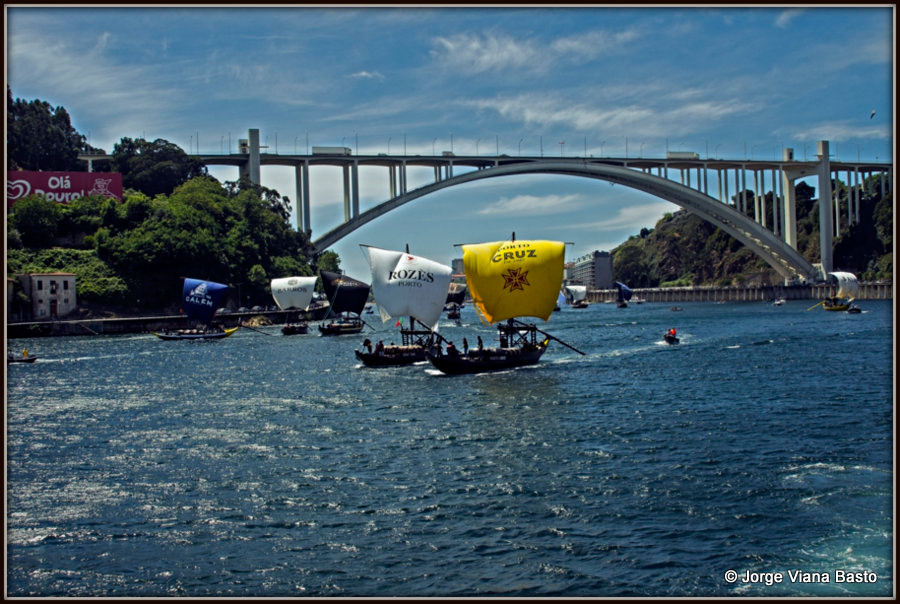arrabida: (180, 126, 899, 286)
